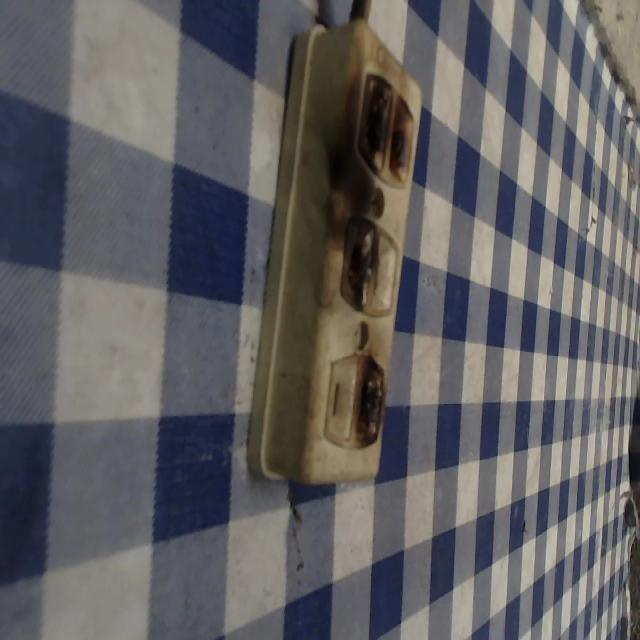-: (358, 65, 414, 192), (337, 210, 375, 314), (352, 354, 385, 449)
